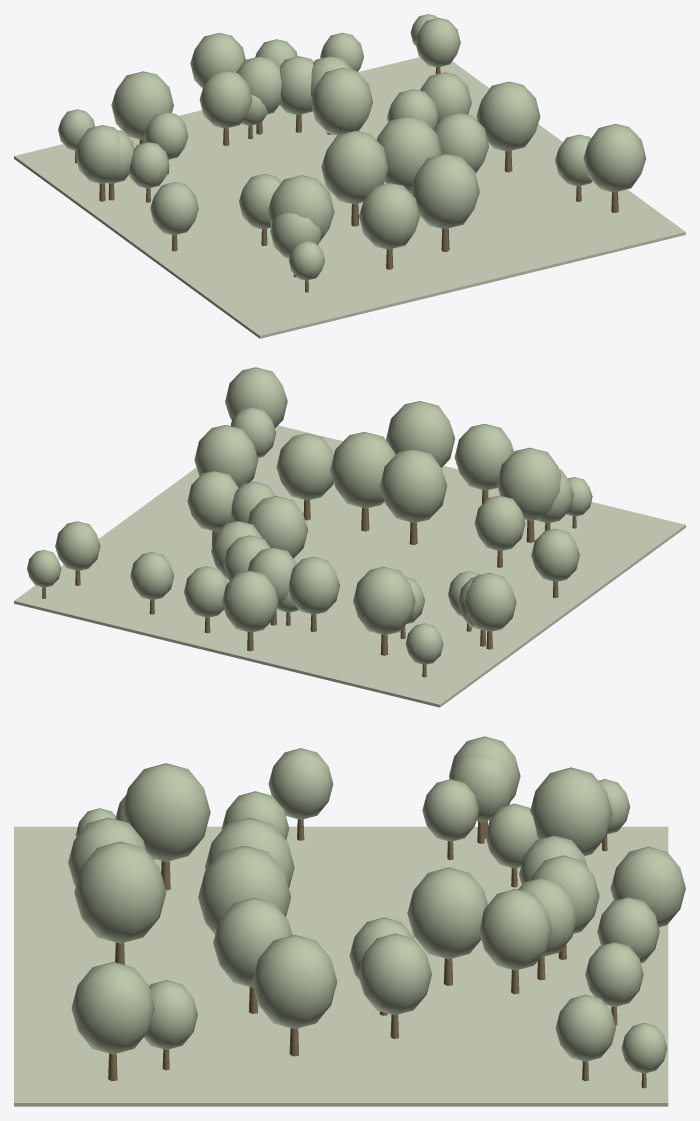
The picture shows the model from 3 angles, top to bottom: view 1: azimuth 30°, elevation 25°; view 2: azimuth 150°, elevation 25°; view 3: azimuth 270°, elevation 25°; orthographic projection. The views are drawn at different scales.
Parts seen in each view (by area): view 1: terrain, lod-near-29, lod-near-13, lod-near-14, lod-near-1, lod-near-0, lod-near-16, lod-near-24, lod-near-2, lod-near-28, lod-near-12, lod-near-9 (+19 smaller); view 2: terrain, lod-near-13, lod-near-24, lod-near-28, lod-near-2, lod-near-29, lod-near-9, lod-near-16, lod-near-14, lod-near-30, lod-near-0, lod-near-1 (+18 smaller); view 3: terrain, lod-near-29, lod-near-28, lod-near-14, lod-near-1, lod-near-0, lod-near-2, lod-near-24, lod-near-22, lod-near-5, lod-near-9, lod-near-30 (+18 smaller).
Part boxes in pixels (x1=…): terrain: x1=14, y1=57, x2=685, y2=338; lod-near-29: x1=410, y1=153, x2=479, y2=229; lod-near-13: x1=321, y1=130, x2=388, y2=204; lod-near-14: x1=476, y1=81, x2=540, y2=151; lod-near-1: x1=583, y1=124, x2=646, y2=192; lod-near-0: x1=310, y1=68, x2=372, y2=134; lod-near-16: x1=359, y1=183, x2=419, y2=249; lod-near-24: x1=377, y1=116, x2=442, y2=191; lod-near-2: x1=111, y1=71, x2=173, y2=139; lod-near-28: x1=267, y1=175, x2=334, y2=242; lod-near-12: x1=199, y1=70, x2=252, y2=128; lod-near-9: x1=433, y1=112, x2=488, y2=173; terrain: x1=14, y1=425, x2=685, y2=707; lod-near-13: x1=380, y1=449, x2=447, y2=522; lod-near-24: x1=330, y1=432, x2=395, y2=508; lod-near-28: x1=497, y1=447, x2=561, y2=520; lod-near-2: x1=353, y1=566, x2=415, y2=634; lod-near-29: x1=386, y1=401, x2=455, y2=467; lod-near-9: x1=276, y1=433, x2=333, y2=500; lod-near-16: x1=454, y1=423, x2=513, y2=490; lod-near-14: x1=194, y1=425, x2=258, y2=487; lod-near-30: x1=222, y1=570, x2=278, y2=632; lod-near-0: x1=247, y1=496, x2=307, y2=558; lod-near-1: x1=225, y1=367, x2=287, y2=428; terrain: x1=14, y1=826, x2=668, y2=1106; lod-near-29: x1=74, y1=841, x2=166, y2=943; lod-near-28: x1=121, y1=763, x2=210, y2=861; lod-near-14: x1=252, y1=934, x2=337, y2=1028; lod-near-1: x1=71, y1=962, x2=154, y2=1054; lod-near-0: x1=407, y1=867, x2=487, y2=959; lod-near-2: x1=530, y1=767, x2=612, y2=855; lod-near-24: x1=198, y1=845, x2=291, y2=934; lod-near-22: x1=358, y1=933, x2=431, y2=1015; lod-near-5: x1=480, y1=889, x2=552, y2=970; lod-near-9: x1=213, y1=897, x2=292, y2=987; lod-near-30: x1=610, y1=846, x2=685, y2=927.
Bounding box in the file's own units: 32.3 × 7.2 × 32.87.
